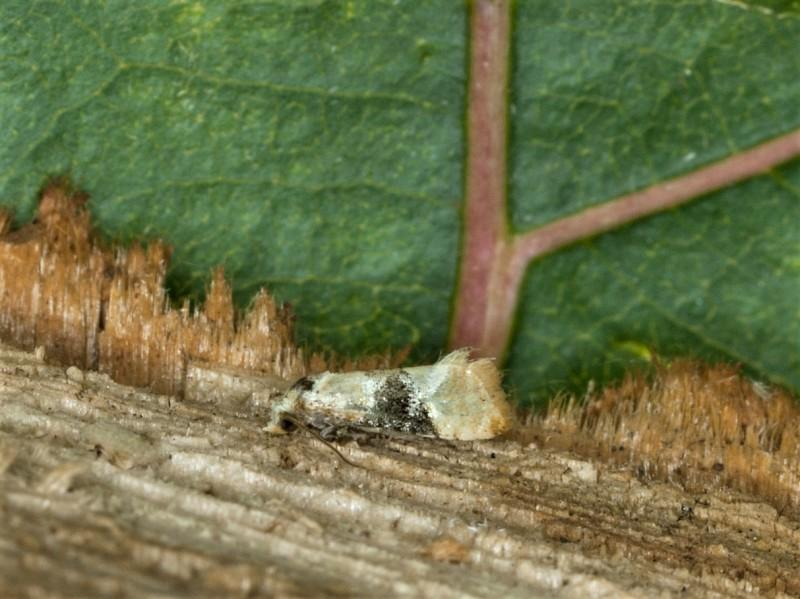Eupoecilia Ambiguella: (261, 344, 514, 468)
